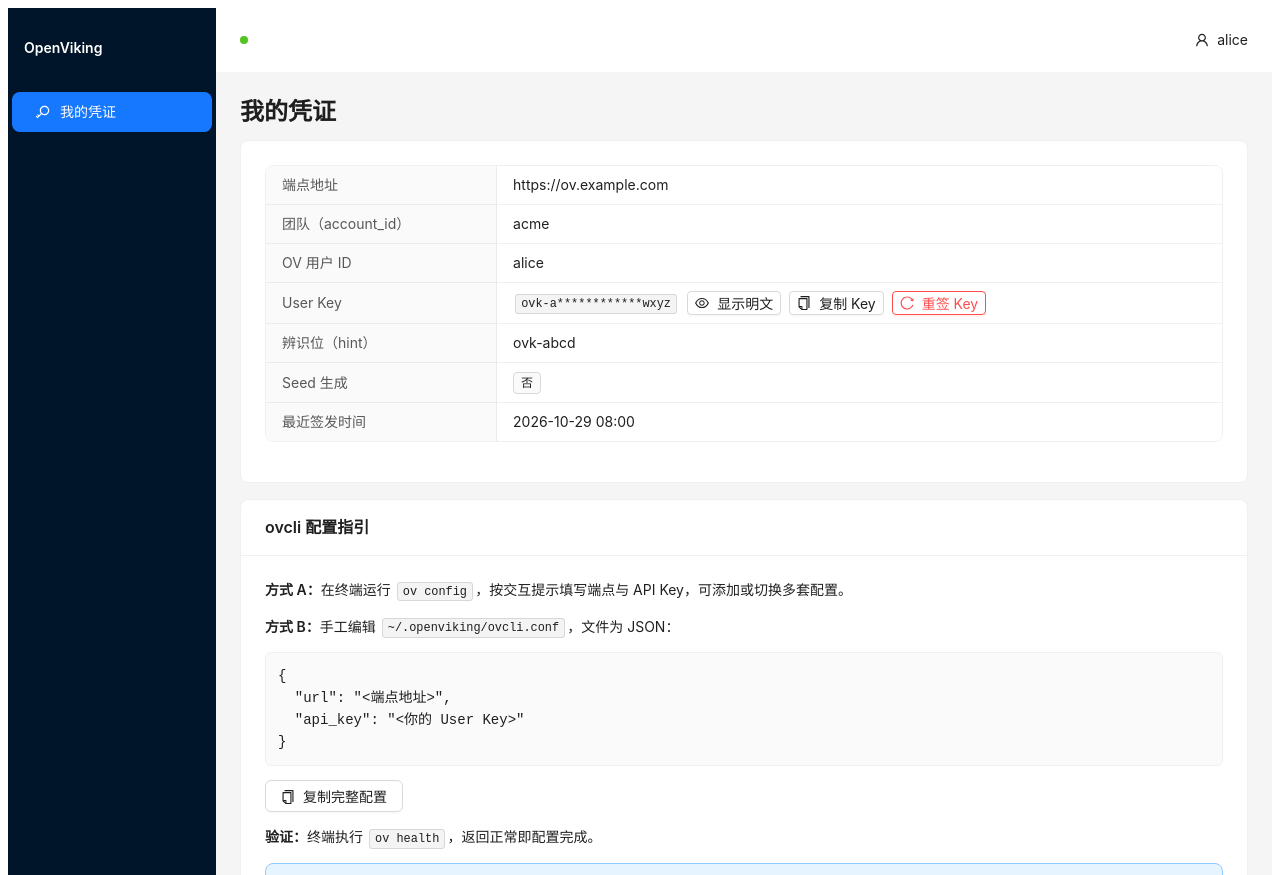
Test: CredentialsPage › 剪贴板失败时给出错误提示且不假装成功
Expected: the text "ovk-a************wxyz" is shown, [515,294,677,314]
Click the button "复制 Key". click: (836, 303)
box: [789,291,884,315]
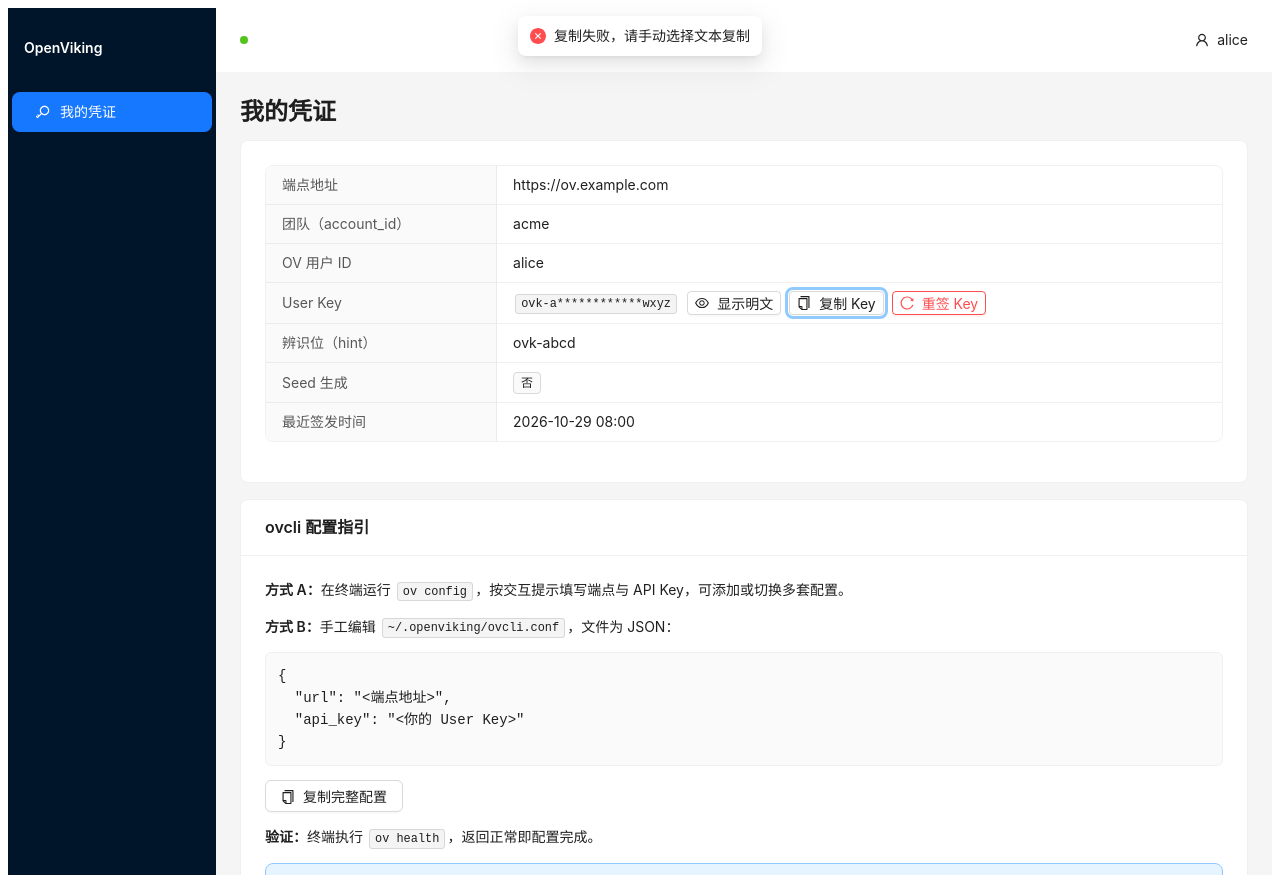
Now the text "复制失败，请手动选择文本复制" is shown, box [554,25,750,47]
